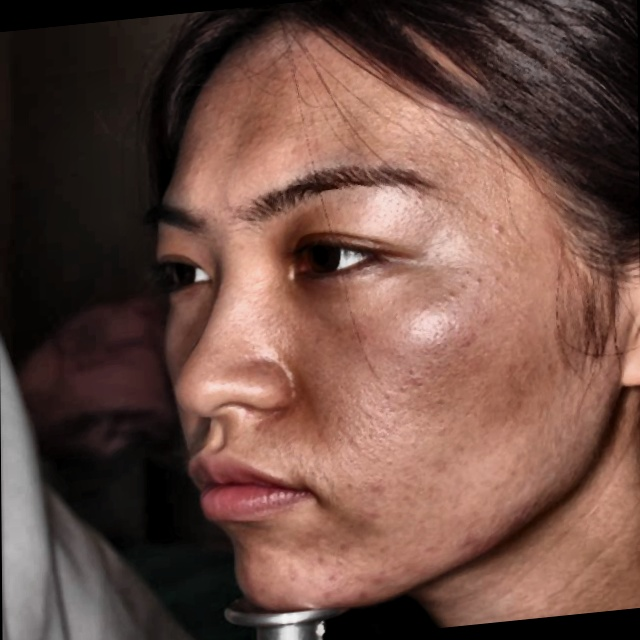comedone: (448, 525, 500, 556), (358, 567, 393, 603)
